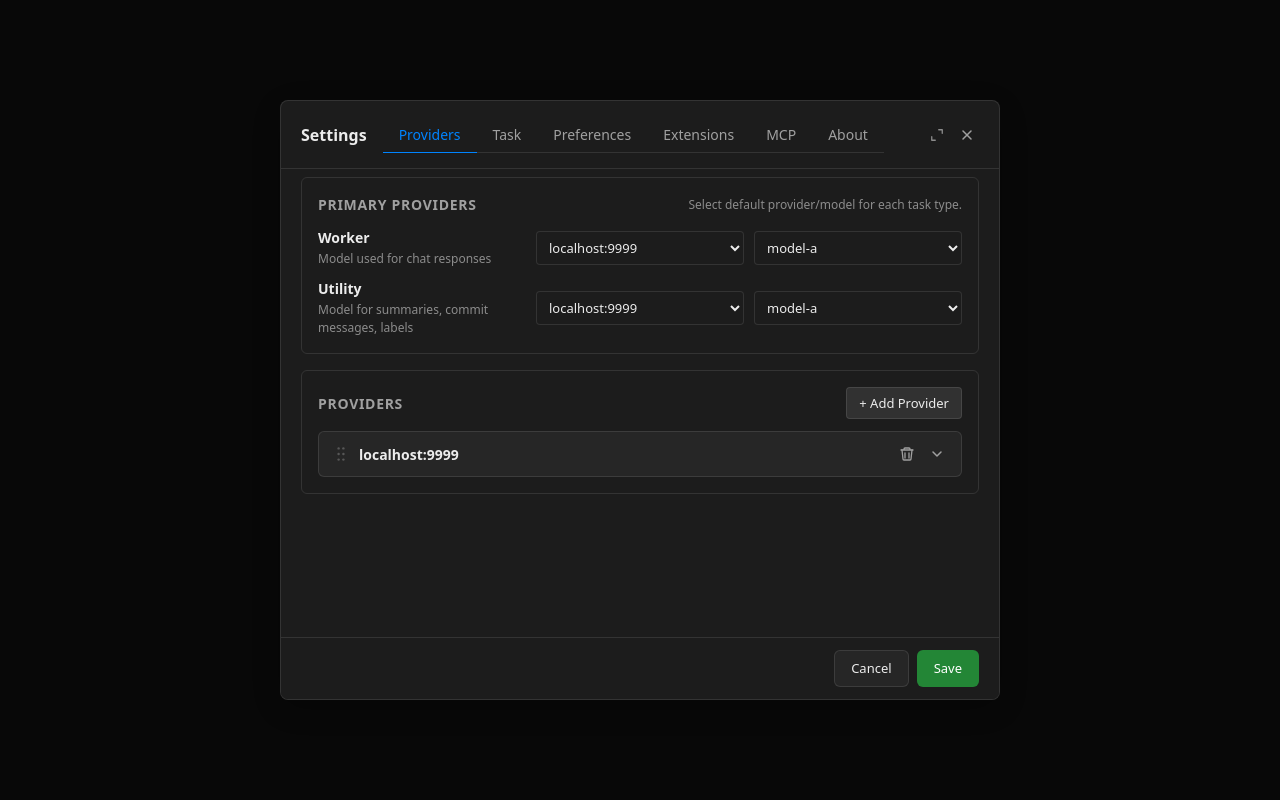
Test case: ConfigModal — reveal newly added provider card › scrolls the new LLM provider card into view and focuses its URL input
Click the button titled "Add a new LLM provider" at (904, 403), box x1=846 y1=387 x2=962 y2=419
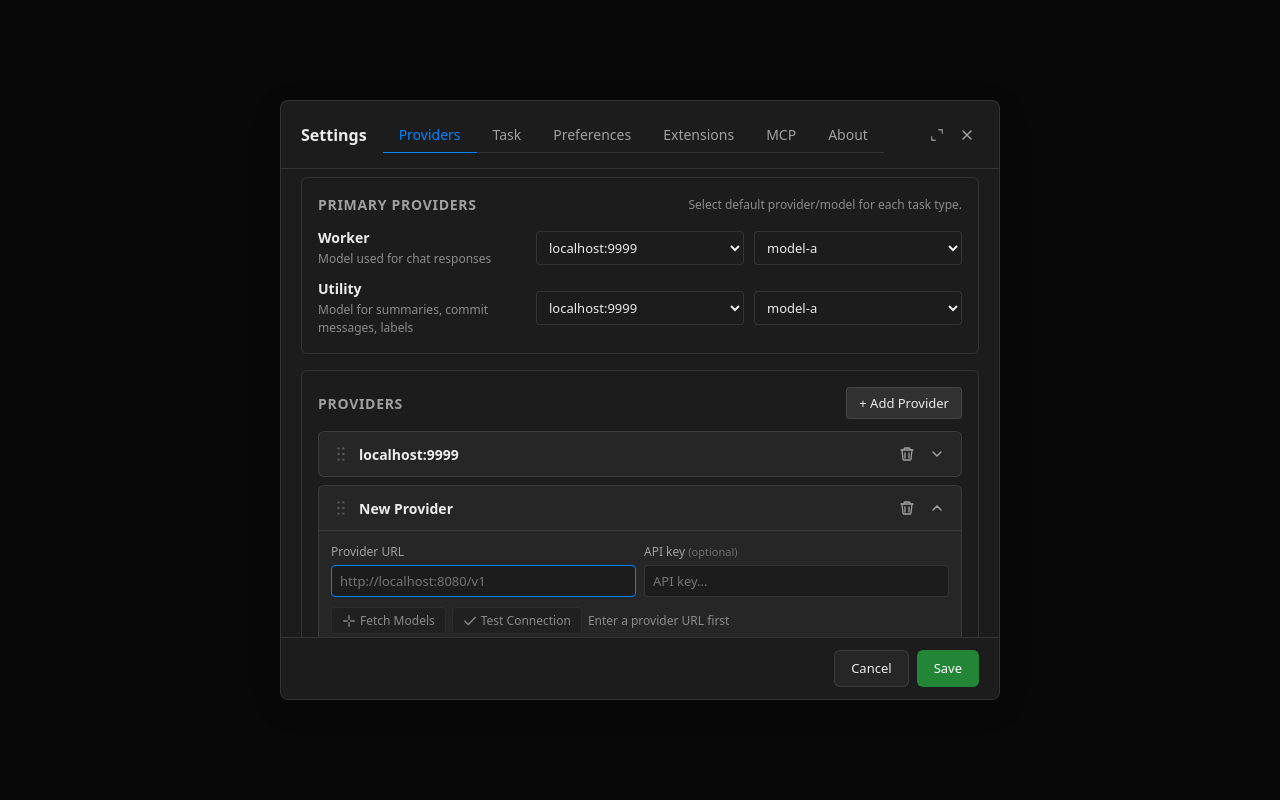
Result: the field labelled "Provider URL" is shown at x1=331 y1=565 x2=636 y2=597
